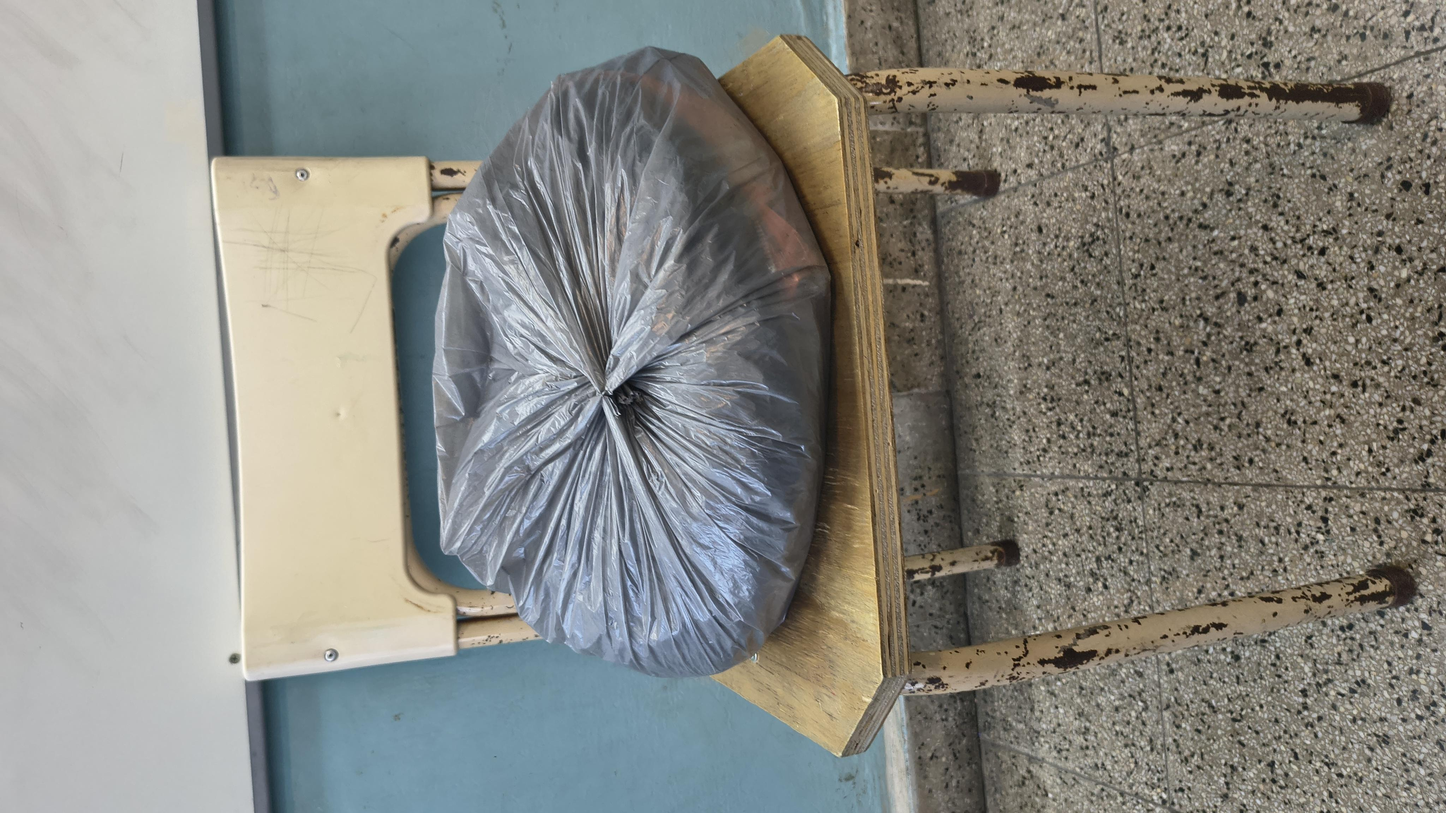Garbage: (169, 226, 1412, 476)
